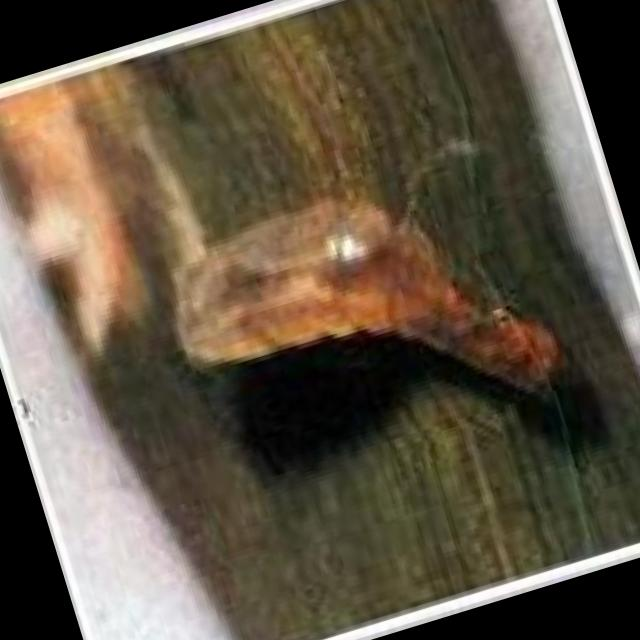whorl-maggot: (171, 196, 561, 400)
